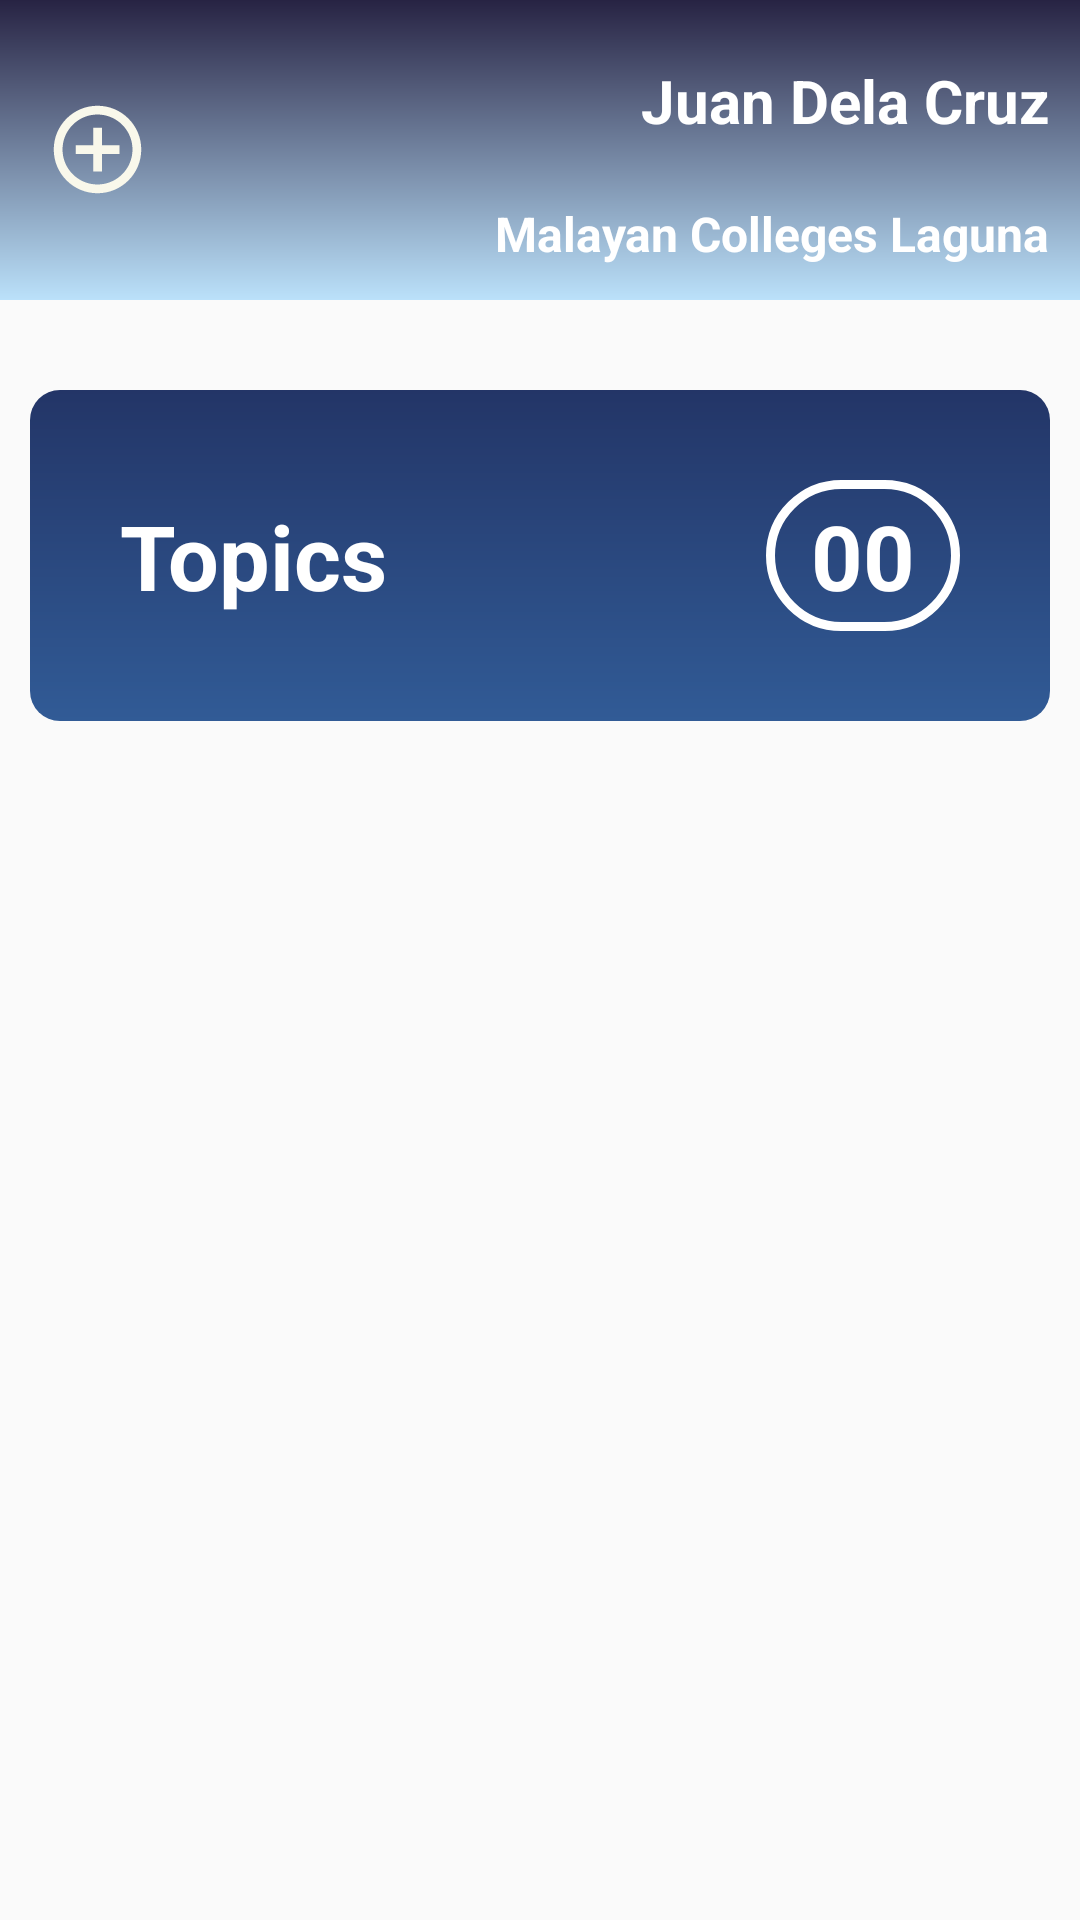

Icon click points for this 1080 x 1920 phone screenshot, format [x,y]:
add circle: [97,149]
